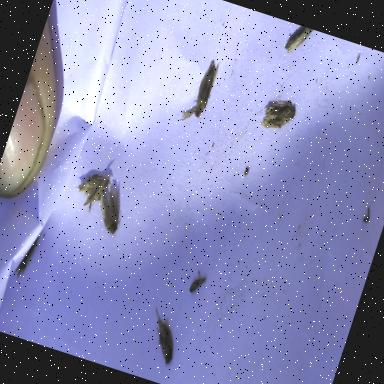pbw: (139, 305, 186, 367), (88, 179, 132, 237), (190, 56, 221, 119), (255, 95, 298, 140), (70, 170, 110, 214), (12, 231, 42, 280), (282, 22, 312, 57), (176, 102, 196, 126), (188, 274, 206, 296)
